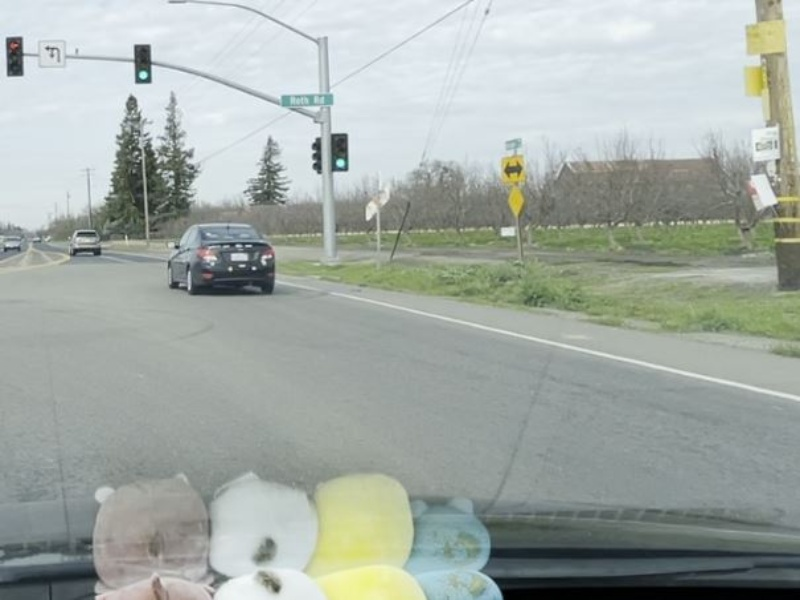left right sign: (498, 155, 526, 183)
